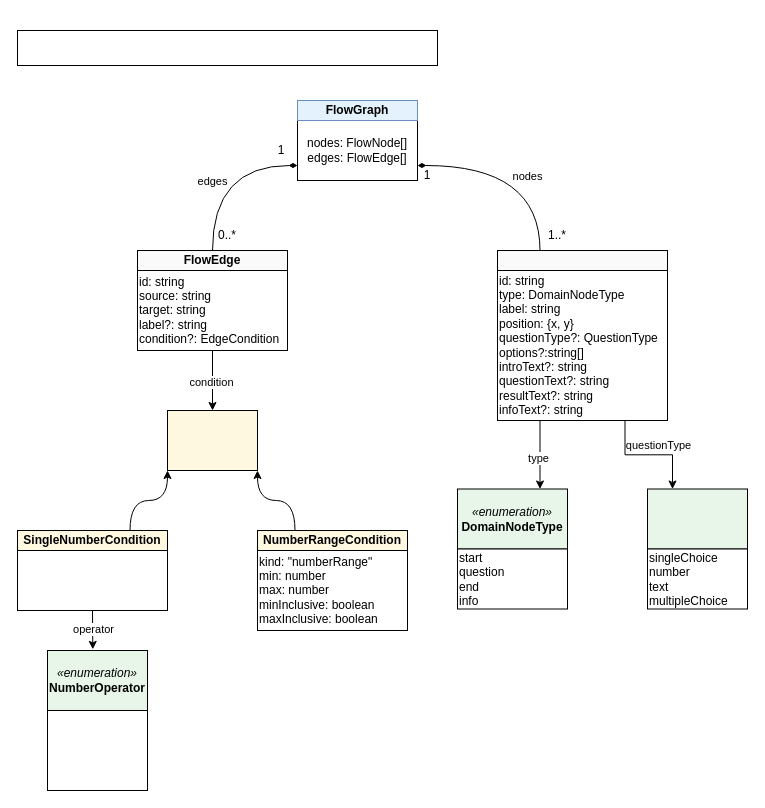
Some shapes in this 765 by 808 pixel diagram are drawn without their labels. Each missing label, with the centre of its shape:
Flow Graph Data Structure (JSONB): the point at 227,48
FlowNode: the point at 582,260
kind: "number" operator: NumberOperator value: number: the point at 92,580
lt lte gt gte eq: the point at 97,750
«enumeration» QuestionType: the point at 697,518
«union» EdgeCondition: the point at 212,440
